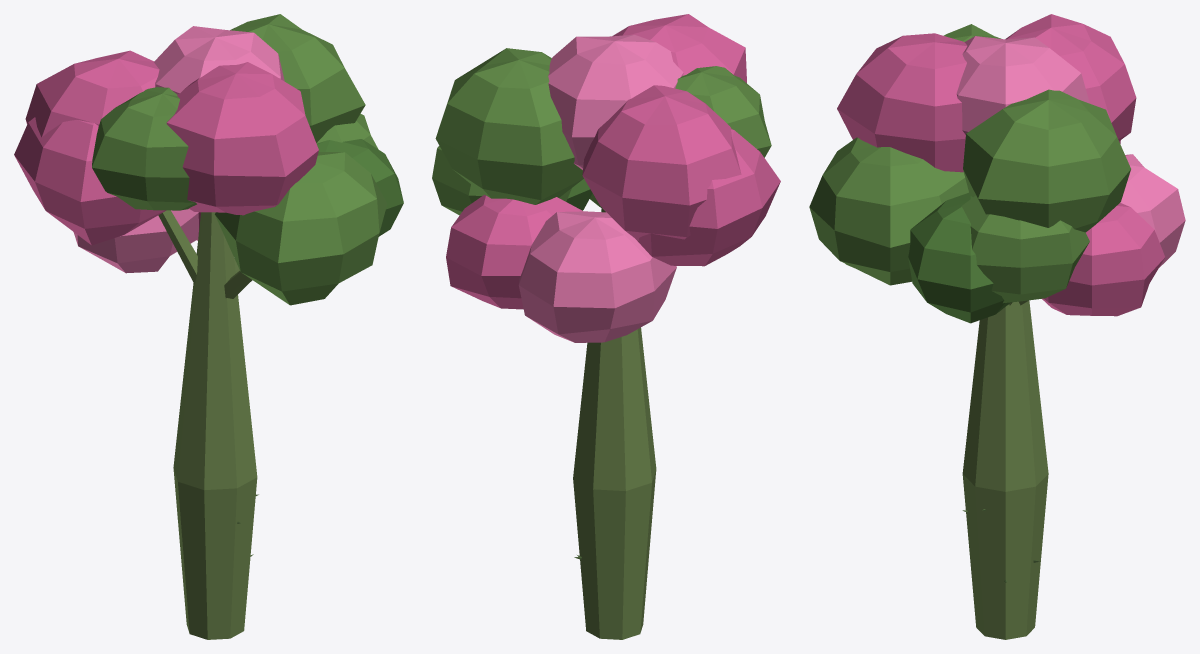
File: tree_silk_floss_small.glb
3 renders of one model, left to right at view 1: azimuth 30°, elevation 25°; view 2: azimuth 150°, elevation 25°; view 3: azimuth 270°, elevation 25°, orthographic.
Visible parts, largest first — view 1: tree_silk_floss_small; view 2: tree_silk_floss_small; view 3: tree_silk_floss_small.
Boxes of the visible parts, <box> form: tree_silk_floss_small: <box>14,14,403,639</box>; tree_silk_floss_small: <box>432,14,780,639</box>; tree_silk_floss_small: <box>809,14,1185,639</box>.
Bounding box in the file's own units: 2.62 × 4.49 × 2.62.
